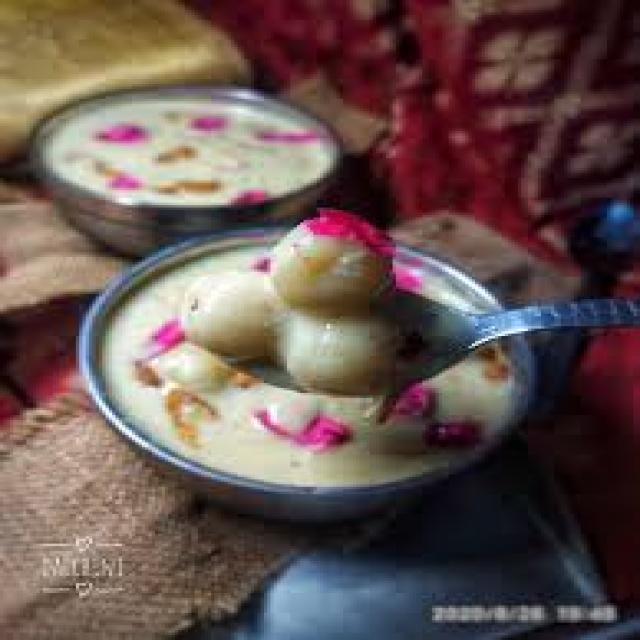paal kolukattai: (103, 196, 531, 472)
